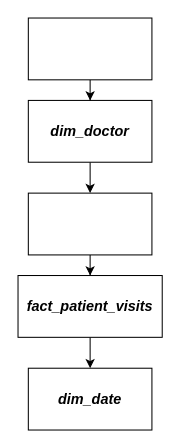
This 180x448 diagram has some shape labels left out. Each missing label, with the centre of its shape:
dim_department: pixel 89 223
dim_patient: pixel 89 48
